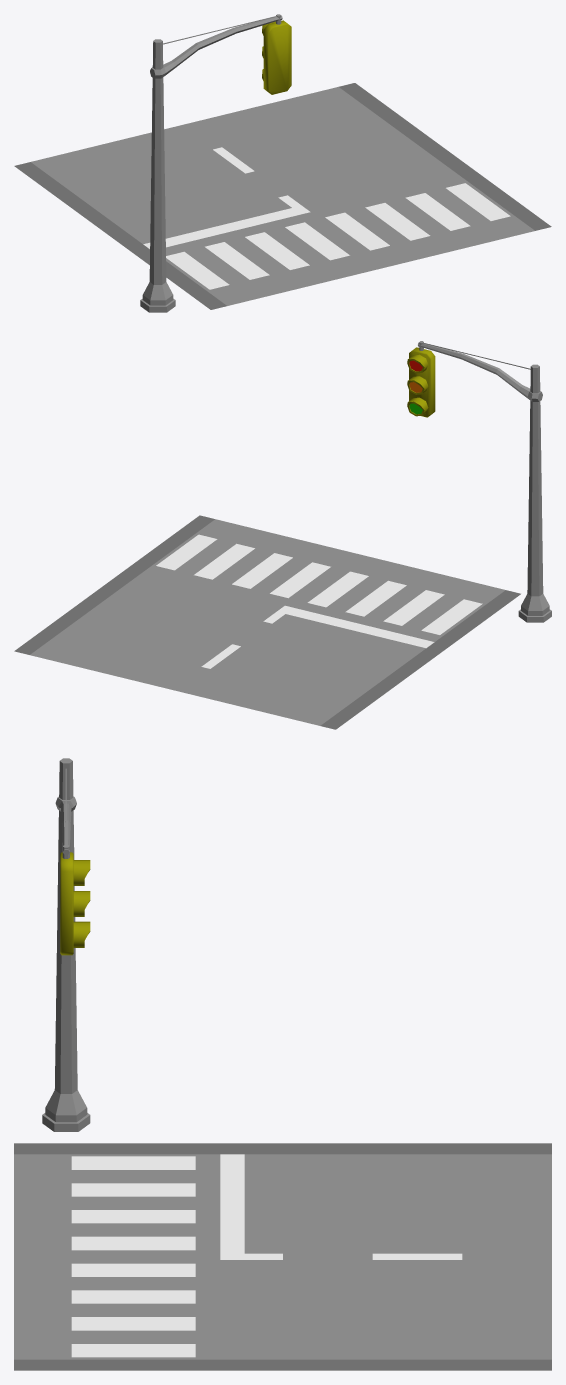
File: modRoadStop.fbx
3 views of the same model, one above another, from view 1: azimuth 30°, elevation 25°; view 2: azimuth 150°, elevation 25°; view 3: azimuth 270°, elevation 25° (orthographic). The views are drawn at different scales.
Visible parts, largest first — view 1: modRoadStop; view 2: modRoadStop; view 3: modRoadStop.
Boxes of the visible parts, x1=… form: modRoadStop: x1=14, y1=14, x2=551, y2=312; modRoadStop: x1=14, y1=341, x2=551, y2=729; modRoadStop: x1=14, y1=758, x2=551, y2=1370.
Size of the model in its own units: 11.38 by 7.43 by 10.
